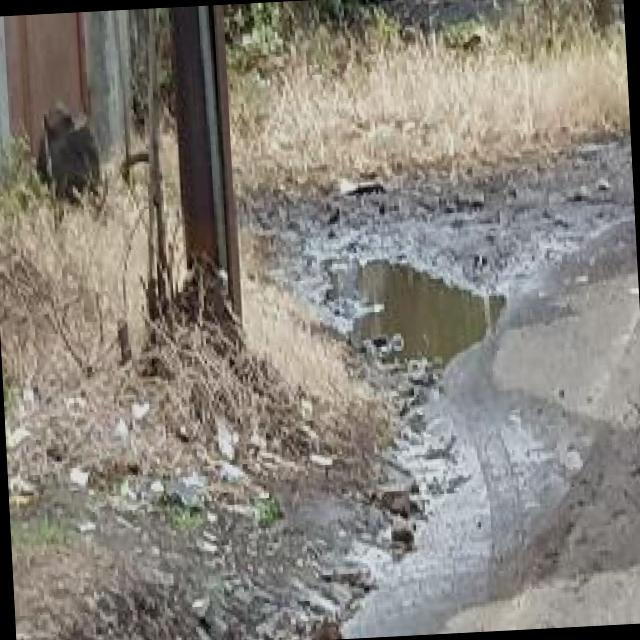stagnation: (319, 248, 501, 408)
